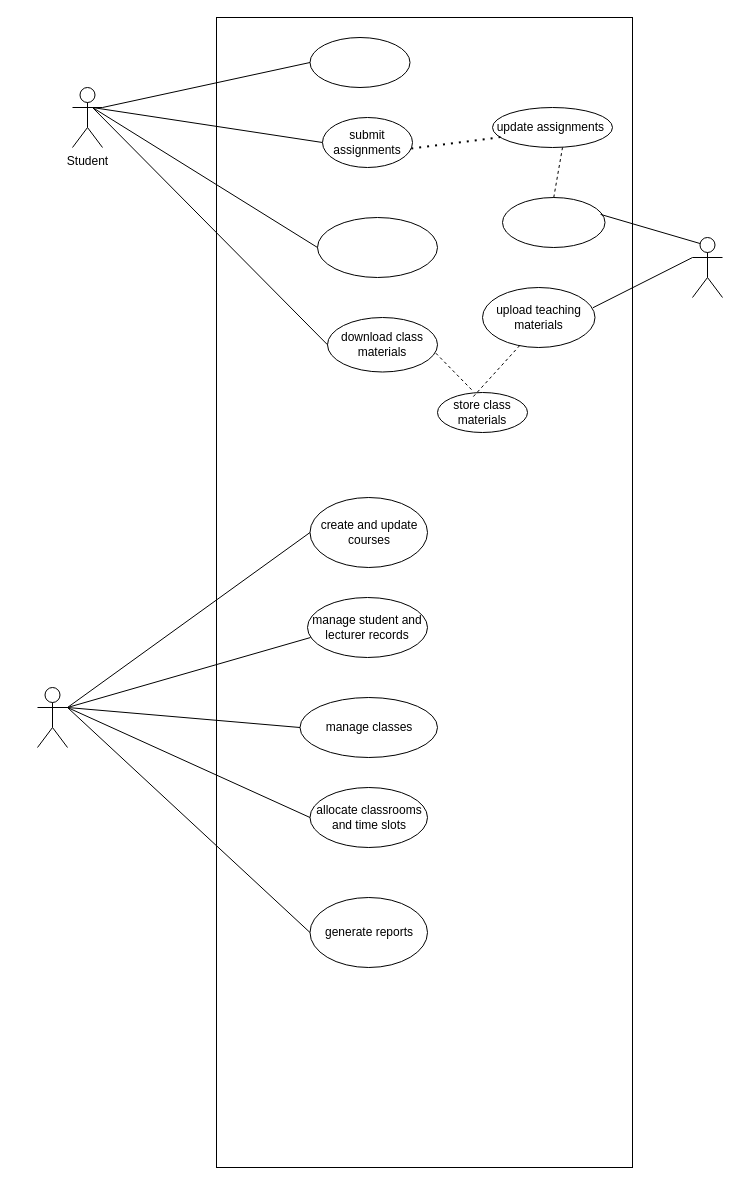
The diagram is 745 pixels wide and 1185 high, and some of its shapes have lost their labels. Here are the shapes that lost their labels. From the top down, the box of each, then its label:
(309, 36, 410, 88): enroll in courses
(502, 196, 605, 248): grade assignment
(316, 216, 438, 278): view grades and feedback
(692, 236, 722, 298): lecturer
(36, 686, 68, 748): Administrator
